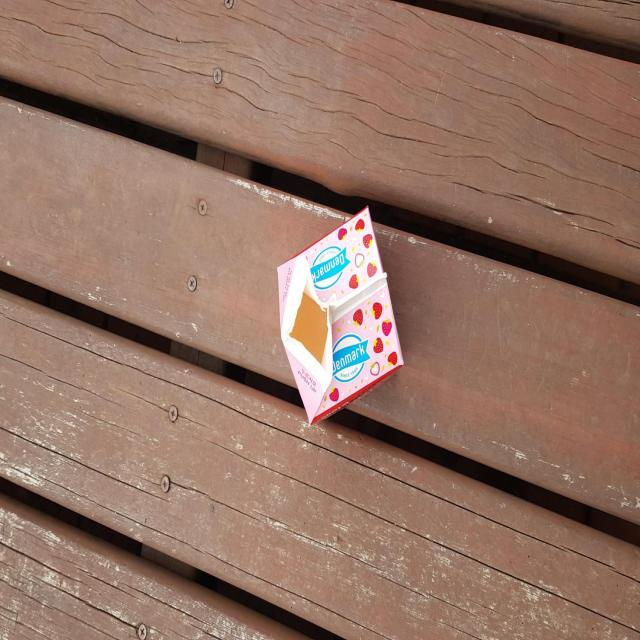paperpack: (277, 206, 404, 423)
